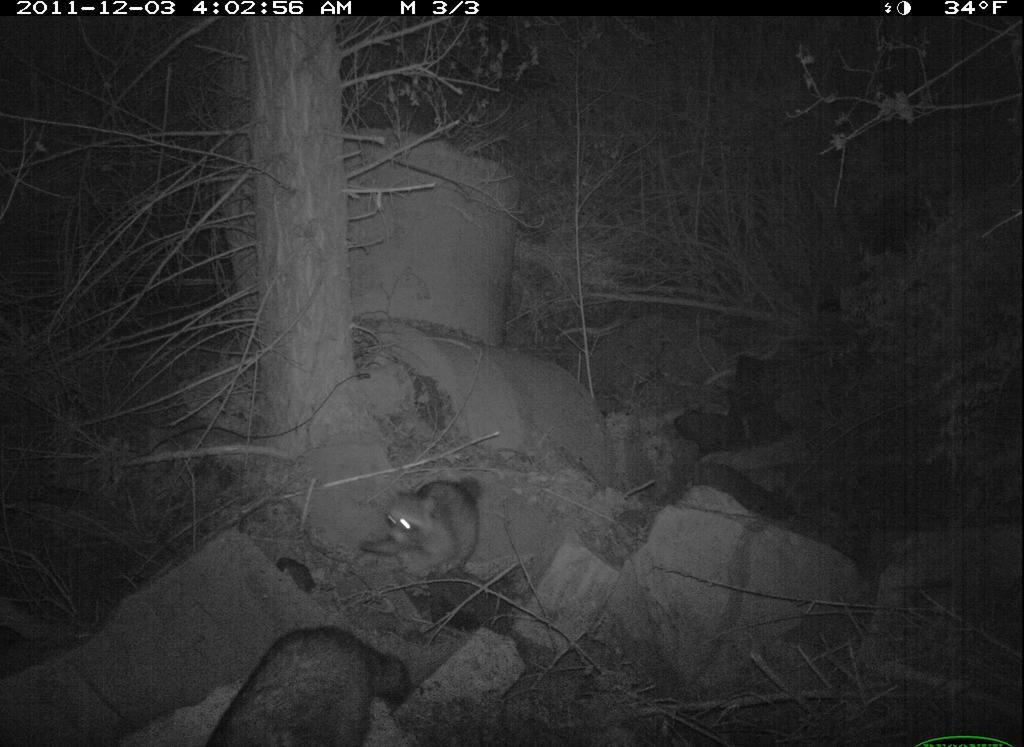raccoon: (203, 624, 419, 747), (361, 472, 497, 575)
